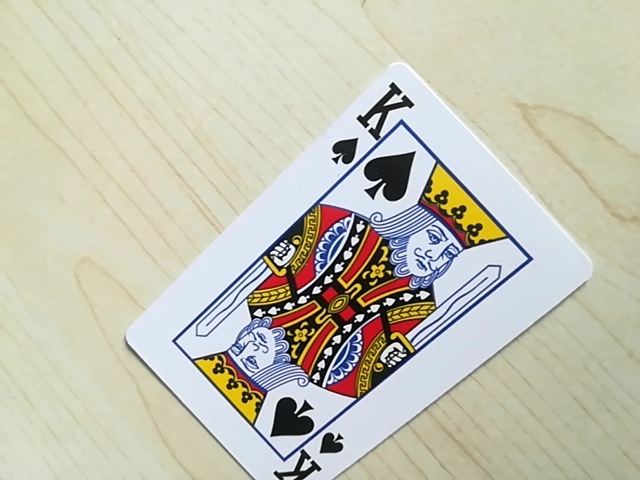ht k: (329, 75, 420, 170), (263, 425, 347, 480)
